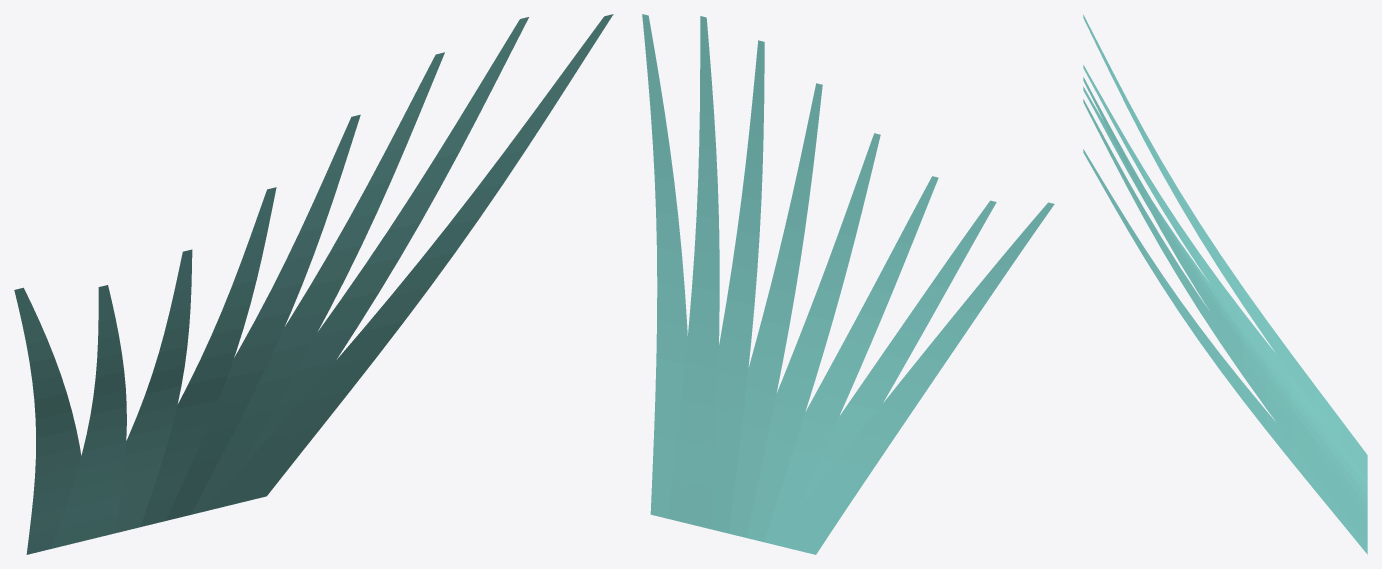
File: crest_alt.glb
3 views of the same model, side by side, from view 1: azimuth 30°, elevation 25°; view 2: azimuth 150°, elevation 25°; view 3: azimuth 270°, elevation 25° (orthographic). The views are drawn at different scales.
Visible parts, largest first — view 1: CrestAlt; view 2: CrestAlt; view 3: CrestAlt.
Part boxes in pixels (x1,y1,x2,y2): CrestAlt: [14, 14, 613, 554]; CrestAlt: [642, 14, 1054, 554]; CrestAlt: [1083, 14, 1367, 554].
Size of the model in its own units: 0.6828 by 0.63 by 0.33.
